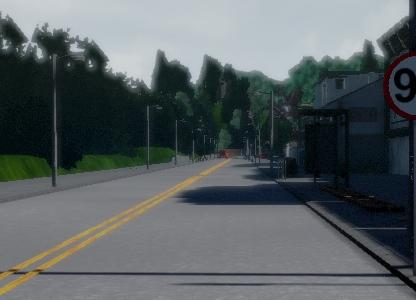Speed_90: (382, 49, 416, 124)
